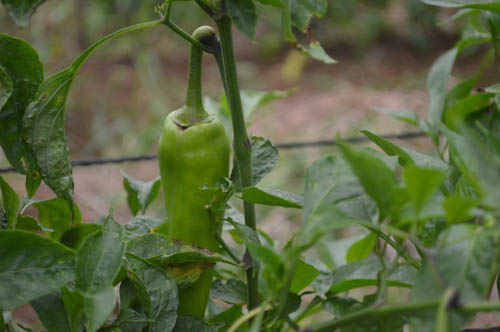ChiliPepper: (158, 117, 226, 320)
